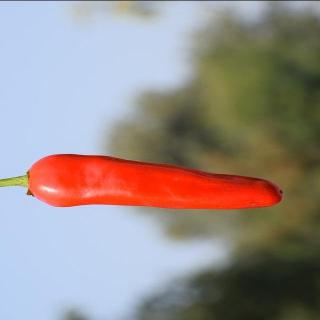Cabai Merah: (1, 154, 284, 210)
